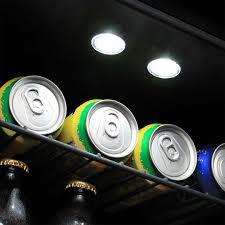beer: (1, 72, 225, 201)
